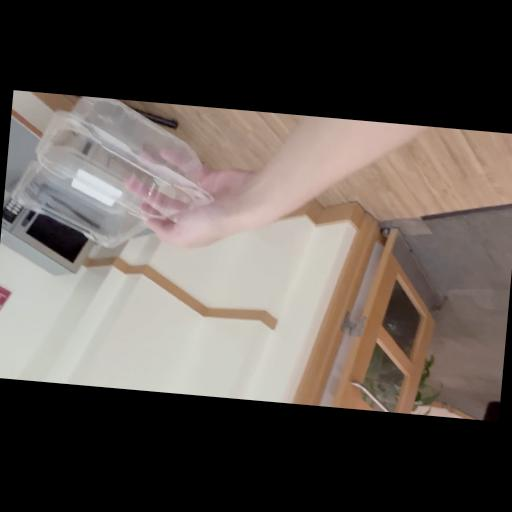small_plastic_container: (13, 92, 220, 256)
